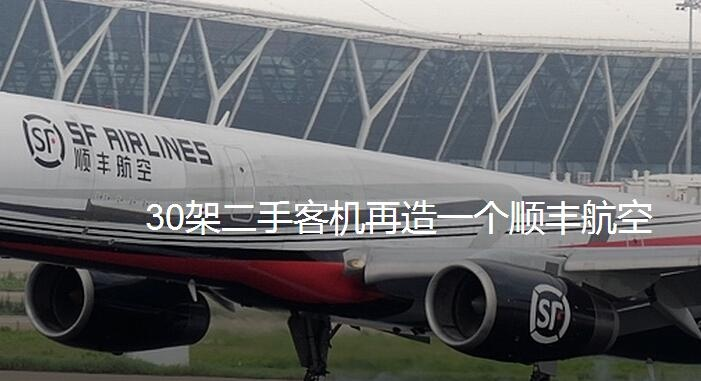airplane: (1, 1, 694, 363)
